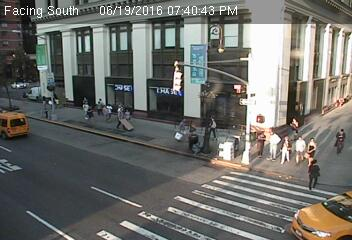neg: (222, 11, 241, 37), (84, 130, 101, 153), (307, 72, 322, 93), (80, 10, 95, 30), (148, 139, 163, 159), (275, 205, 289, 225), (233, 200, 247, 219), (230, 173, 243, 192), (264, 18, 277, 36), (23, 138, 36, 155), (135, 178, 148, 195), (187, 178, 200, 195), (316, 44, 329, 61), (152, 7, 164, 24), (169, 51, 181, 67), (93, 172, 105, 188), (188, 6, 200, 22), (119, 32, 130, 48), (54, 140, 65, 155), (277, 51, 288, 66), (155, 34, 166, 49), (143, 102, 154, 117), (21, 44, 32, 58), (144, 83, 154, 97), (12, 110, 22, 124), (63, 36, 73, 49), (246, 75, 256, 88), (104, 60, 114, 73), (66, 171, 74, 183), (12, 78, 20, 89), (145, 58, 153, 68), (80, 46, 87, 56), (73, 73, 78, 80)
pos: (304, 158, 326, 188), (300, 135, 322, 165), (275, 134, 297, 163), (329, 126, 350, 154), (262, 127, 282, 154), (246, 127, 266, 154), (170, 115, 189, 139), (205, 113, 221, 135), (113, 107, 129, 128), (288, 115, 303, 135), (79, 101, 91, 117)
